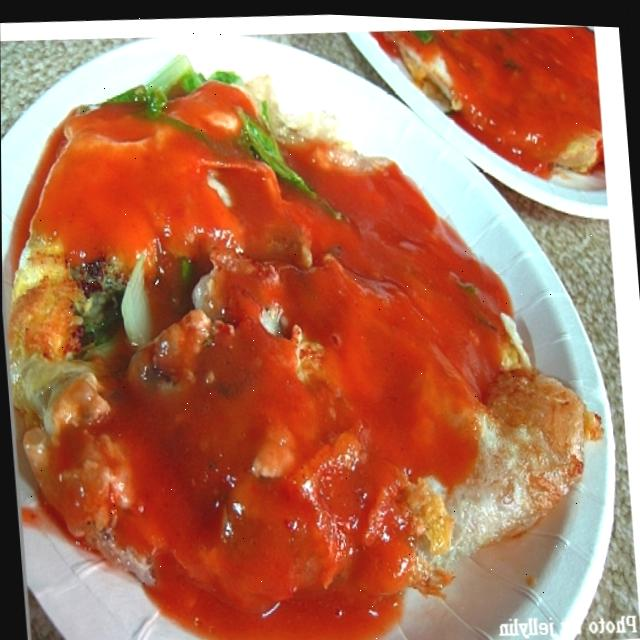熟制海鲜: (0, 0, 633, 640)
